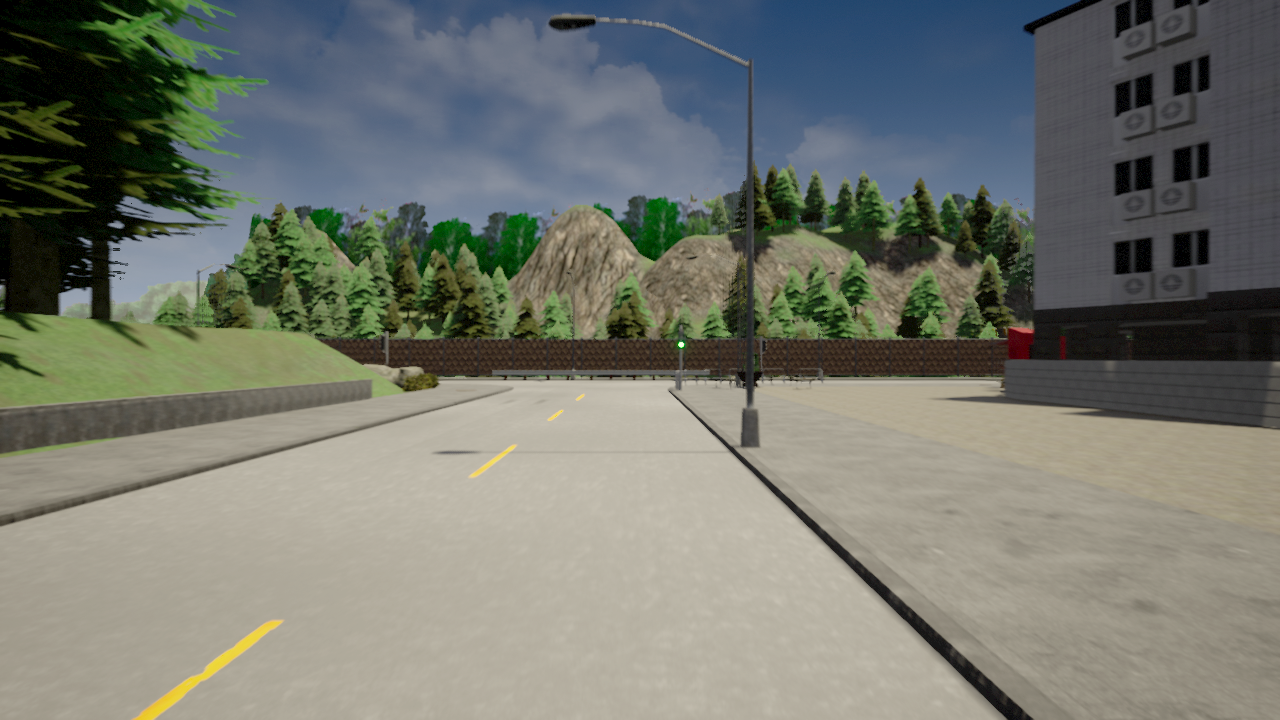green: (677, 329, 686, 348)
